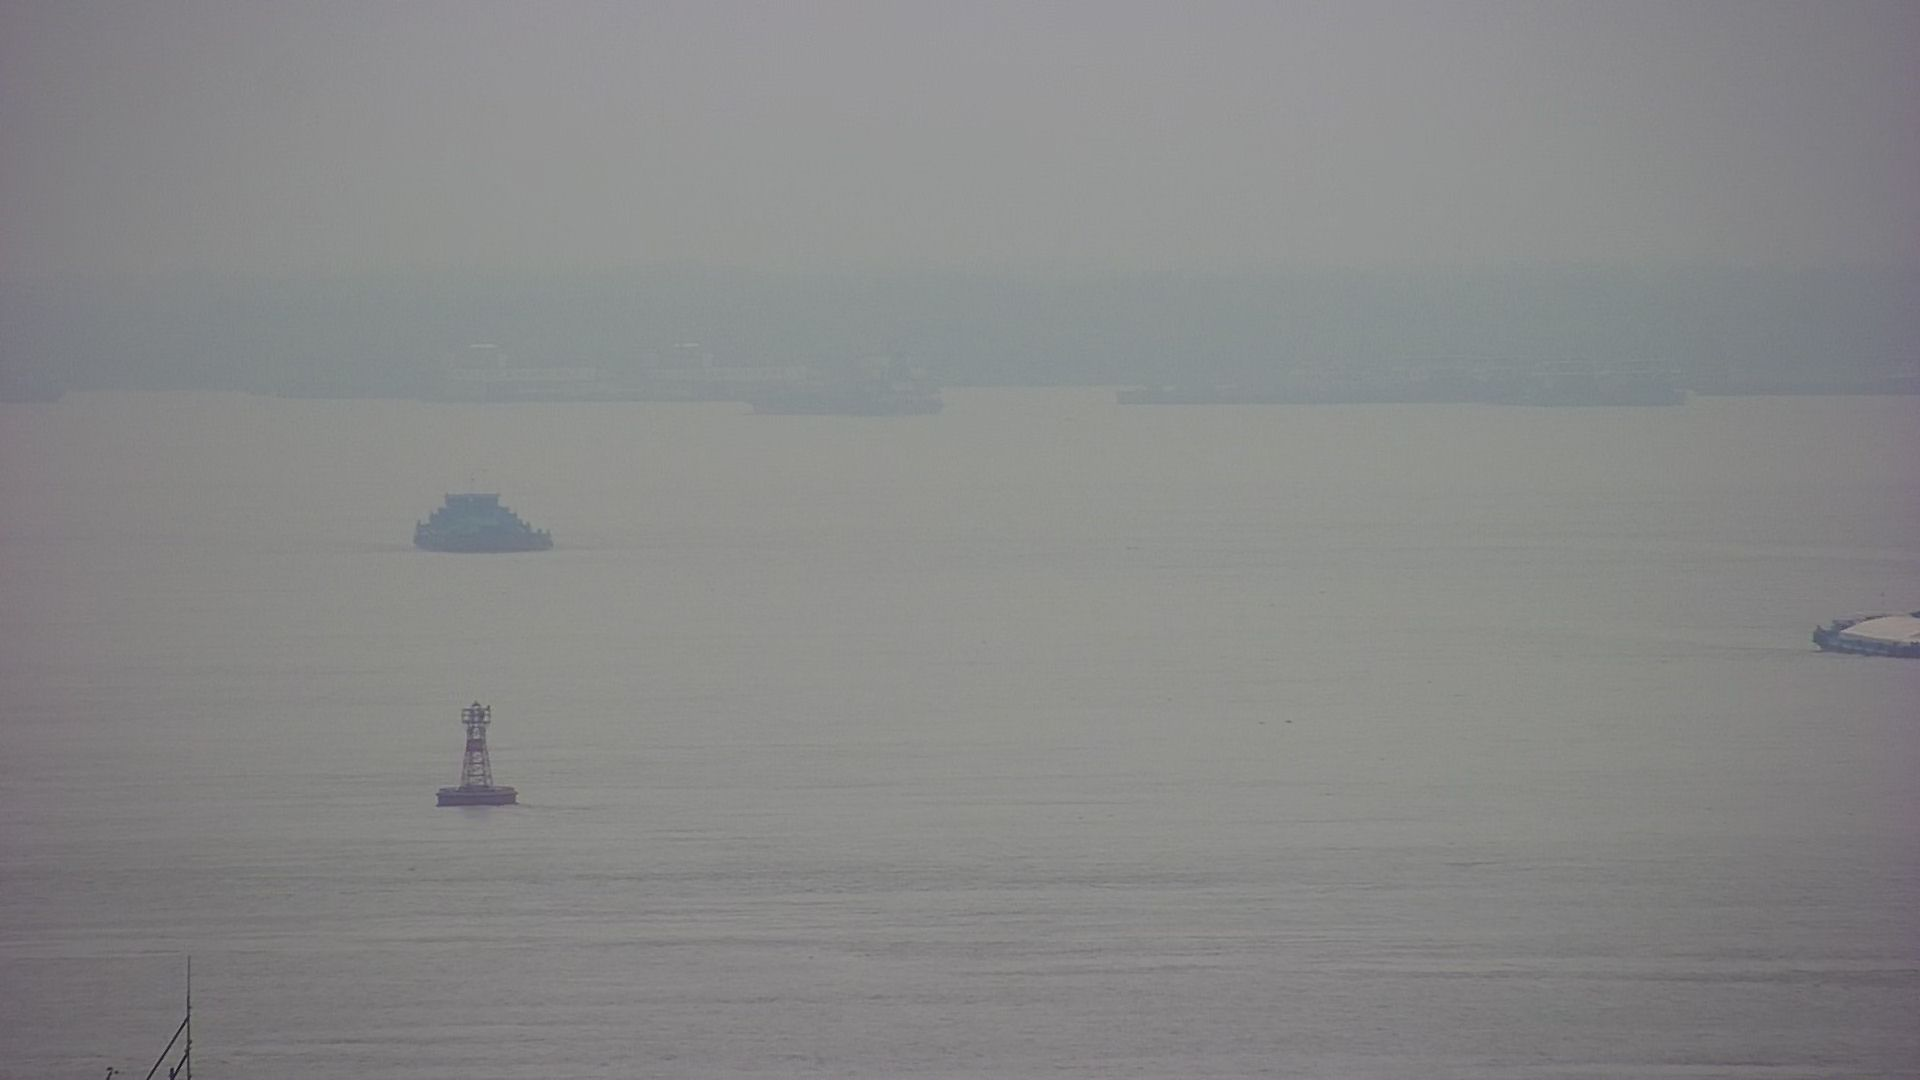mast: (109, 945, 195, 1080)
platform: (435, 696, 520, 804)
ship: (402, 489, 553, 560), (1816, 607, 1920, 655)
